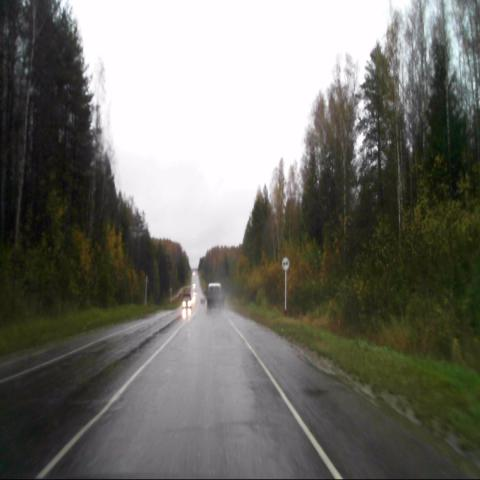3_21: (282, 255, 290, 271)
